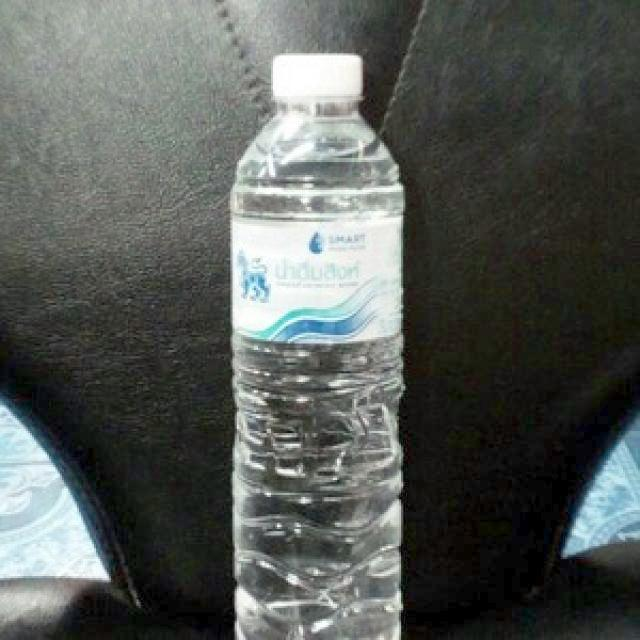bottle: (231, 53, 404, 640)
